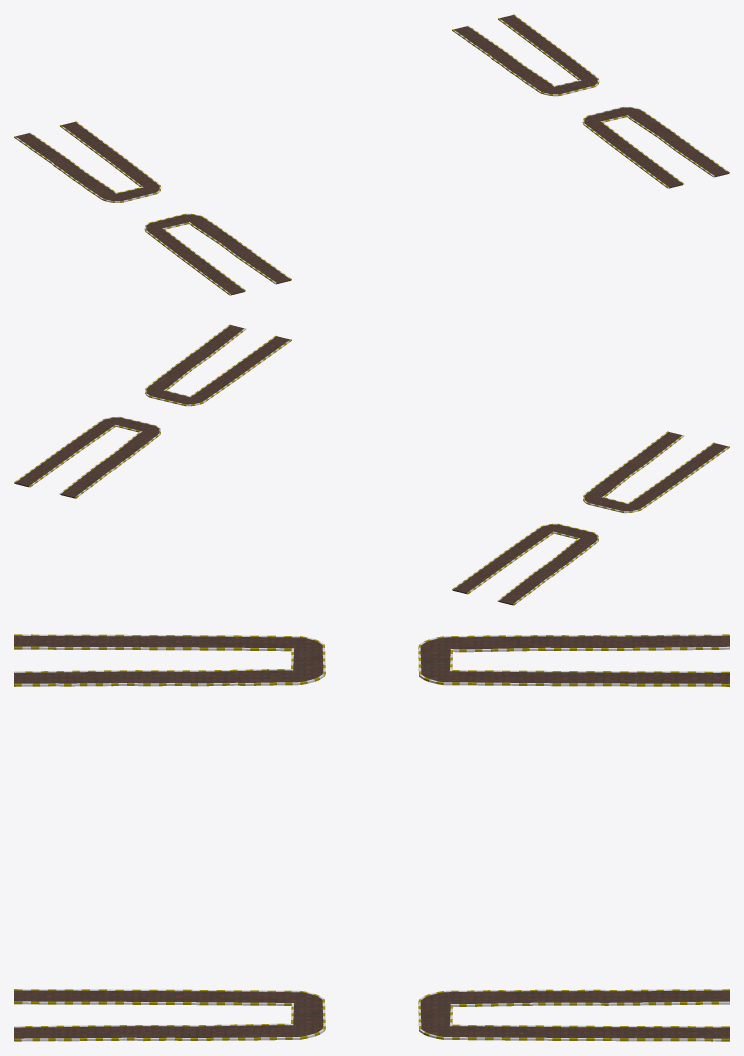
The model's file is 2nd road curbs.fbx.
3 views of the same model, one above another, from view 1: azimuth 30°, elevation 25°; view 2: azimuth 150°, elevation 25°; view 3: azimuth 270°, elevation 25° (orthographic). The views are drawn at different scales.
Visible parts, largest first — view 1: polySurface773, polySurface771, polySurface760, polySurface772; view 2: polySurface772, polySurface760, polySurface771, polySurface773; view 3: polySurface760, polySurface773, polySurface771, polySurface772.
Part boxes in pixels (left/top/right/bottom): polySurface773: left=144, top=213, right=291, bottom=295; polySurface771: left=582, top=106, right=729, bottom=188; polySurface760: left=452, top=14, right=599, bottom=96; polySurface772: left=14, top=121, right=161, bottom=202; polySurface772: left=452, top=523, right=598, bottom=605; polySurface760: left=14, top=416, right=160, bottom=498; polySurface771: left=145, top=324, right=291, bottom=406; polySurface773: left=583, top=431, right=729, bottom=513; polySurface760: left=418, top=989, right=729, bottom=1041; polySurface773: left=14, top=634, right=325, bottom=686; polySurface771: left=14, top=989, right=325, bottom=1041; polySurface772: left=418, top=634, right=729, bottom=686.
Bounding box in the file's own units: 82.56 × 0.2225 × 61.66.
3 materials, 1 textured.
